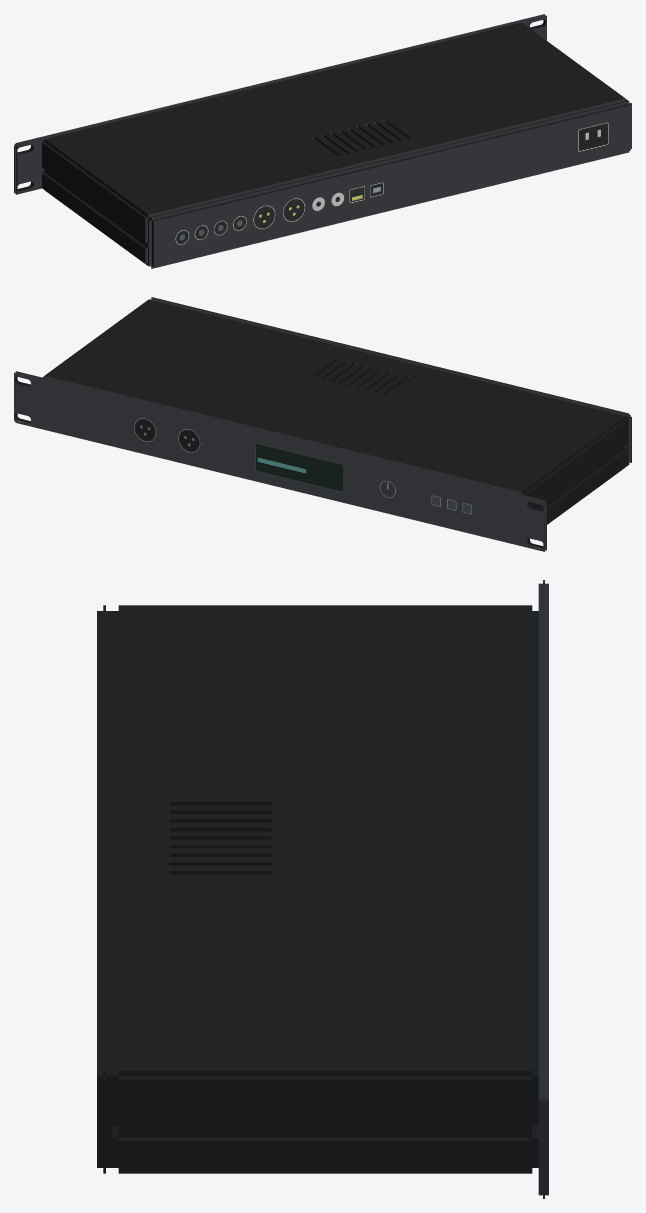
File: motu-828es.glb
3 renders of one model, top to bottom at view 1: azimuth 30°, elevation 25°; view 2: azimuth 150°, elevation 25°; view 3: azimuth 270°, elevation 25°, orthographic. The views are drawn at different scales.
Parts seen in each view (by area): view 1: motu-828es-body; view 2: motu-828es-body; view 3: motu-828es-body.
Part boxes in pixels (x1,y1,x2,y2): motu-828es-body: [14, 14, 631, 268]; motu-828es-body: [14, 297, 631, 551]; motu-828es-body: [97, 580, 548, 1198].
Bounding box in the file's own units: 0.483 × 0.0445 × 0.1775.
1 material, 1 textured.
